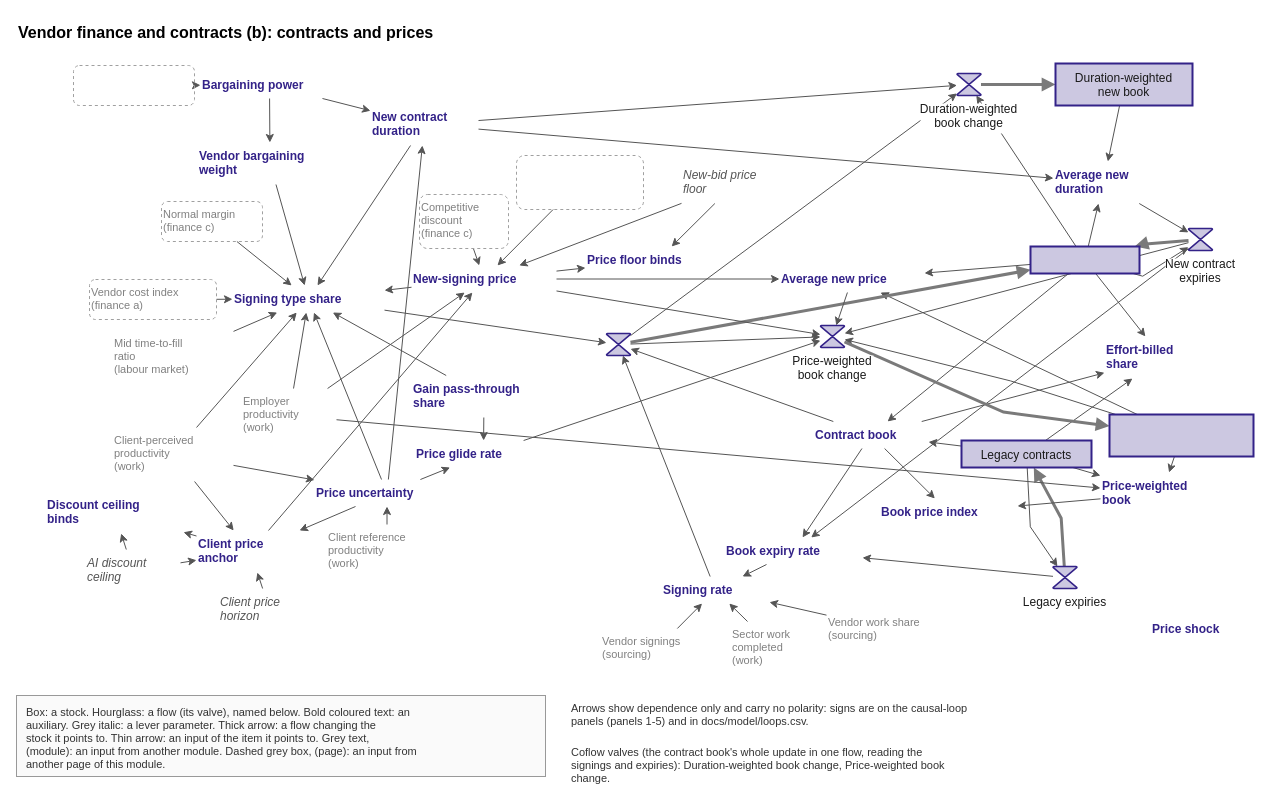
Image size: 1270x810. Some labels were removed from this diagram. The centre of each missing label's shape, as x and y in pixels:
"Expected delivery cost (finance a)" goes at (x=580, y=182).
"Margin deviation (finance c)" goes at (x=133, y=85).
"New contracts" goes at (x=1084, y=259).
"New signings" goes at (x=618, y=344).
"Price-weighted new book" goes at (x=1181, y=435).
